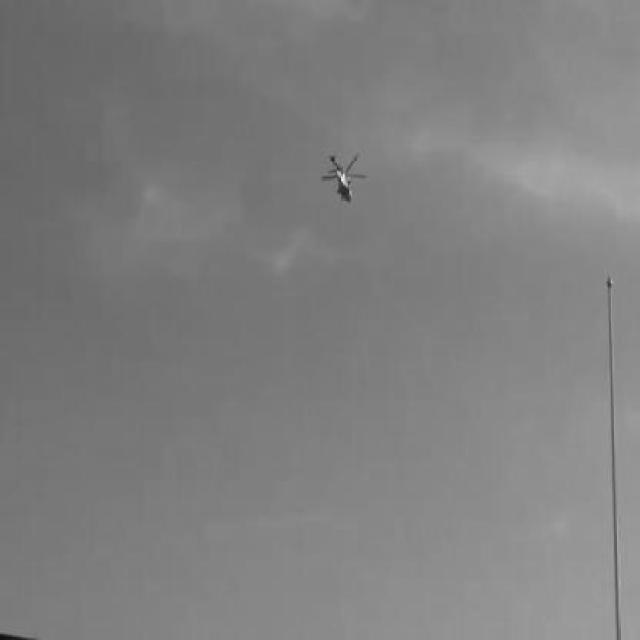helikopter: (314, 144, 371, 208)
